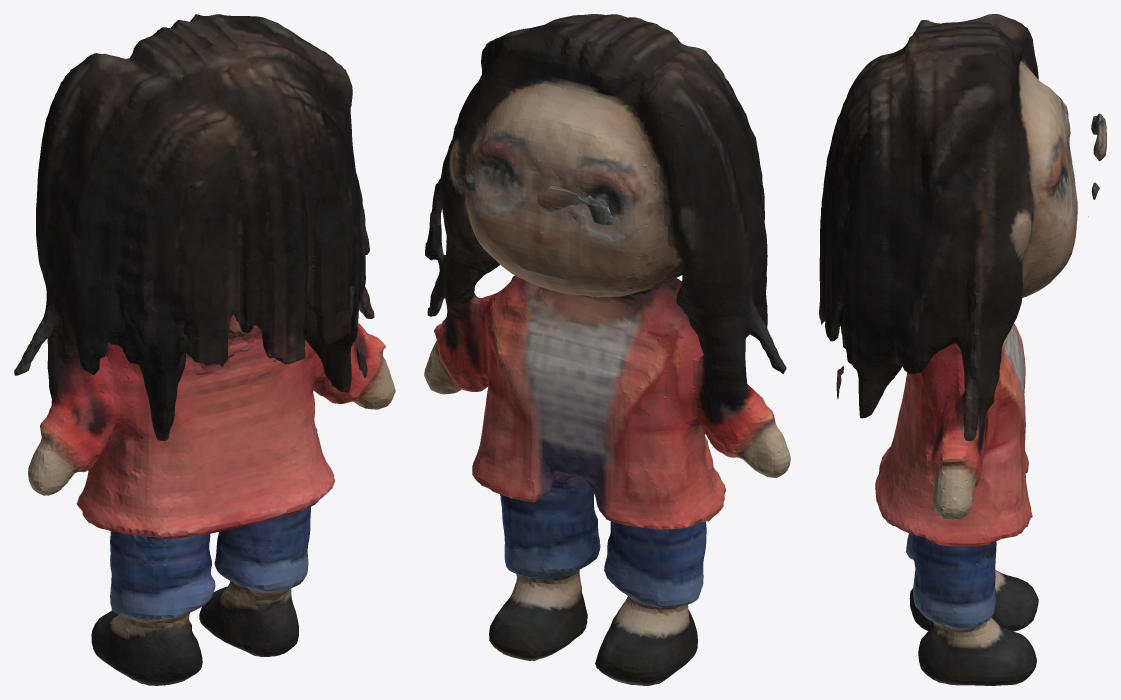
File: shellydreadeddiva.glb
3 renders of one model, left to right at view 1: azimuth 30°, elevation 25°; view 2: azimuth 150°, elevation 25°; view 3: azimuth 270°, elevation 25°, orthographic. The views are drawn at different scales.
Parts seen in each view (by area): view 1: world; view 2: world; view 3: world.
Boxes of the visible parts, bbox=[...] form: world: bbox=[14, 14, 395, 685]; world: bbox=[424, 14, 790, 685]; world: bbox=[819, 14, 1106, 685].
Size of the model in its own units: 1.22 by 1.98 by 0.8472.
